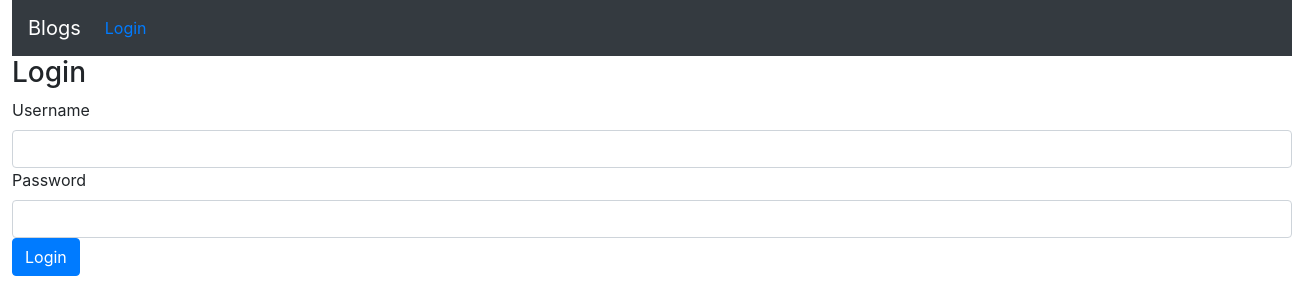
Test: Blog app › Login › fails with wrong credentials
The image size is (1304, 293).
expect the link "Login" is shown: met, box [105,18,152,38]
Type "abcdefglol" into the field with id "username".
click(652, 149); type("abcdefglol")  # box [12,130,1292,168]
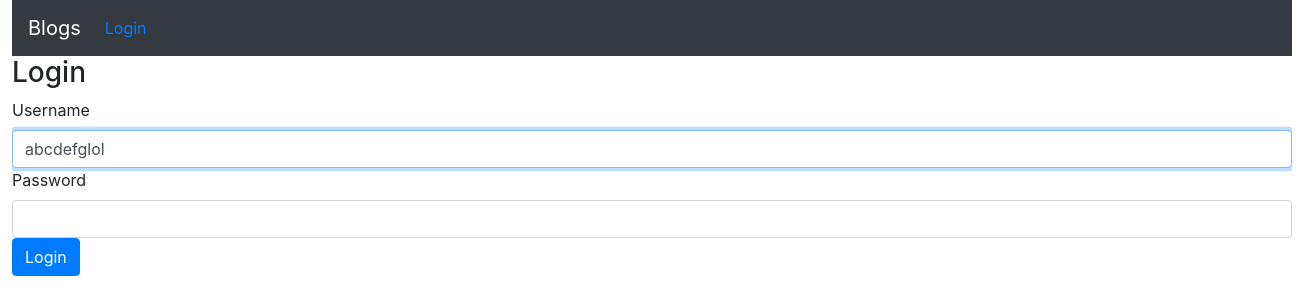
Type "abcdefglol" into the password field.
click(652, 219); type("abcdefglol")  # box [12,200,1292,238]
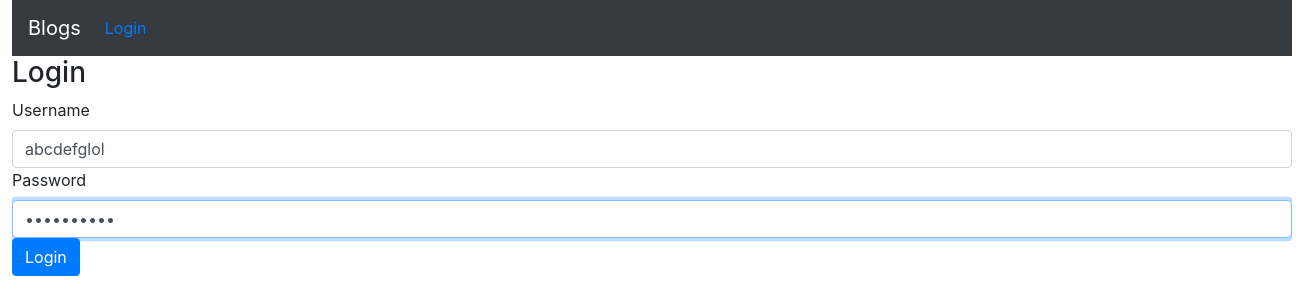
Click the button with id "login-button".
click(46, 257)  # box [12,238,80,276]
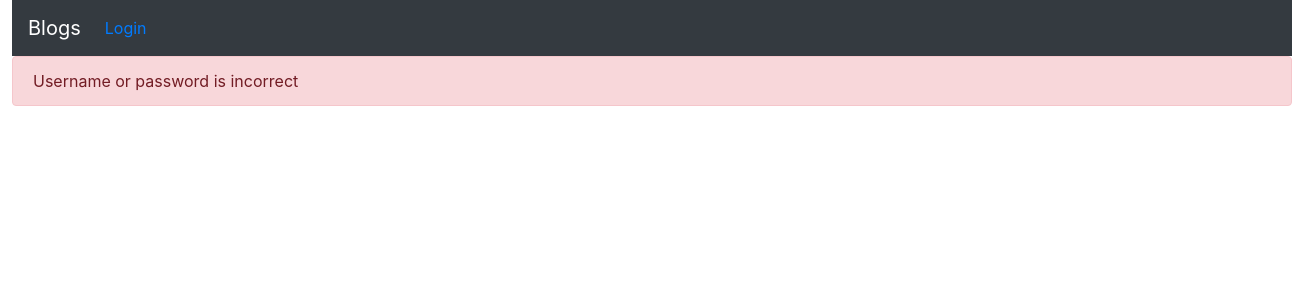
expect the text "Username or password is incorrect" is shown: met, box [12,56,1292,106]
